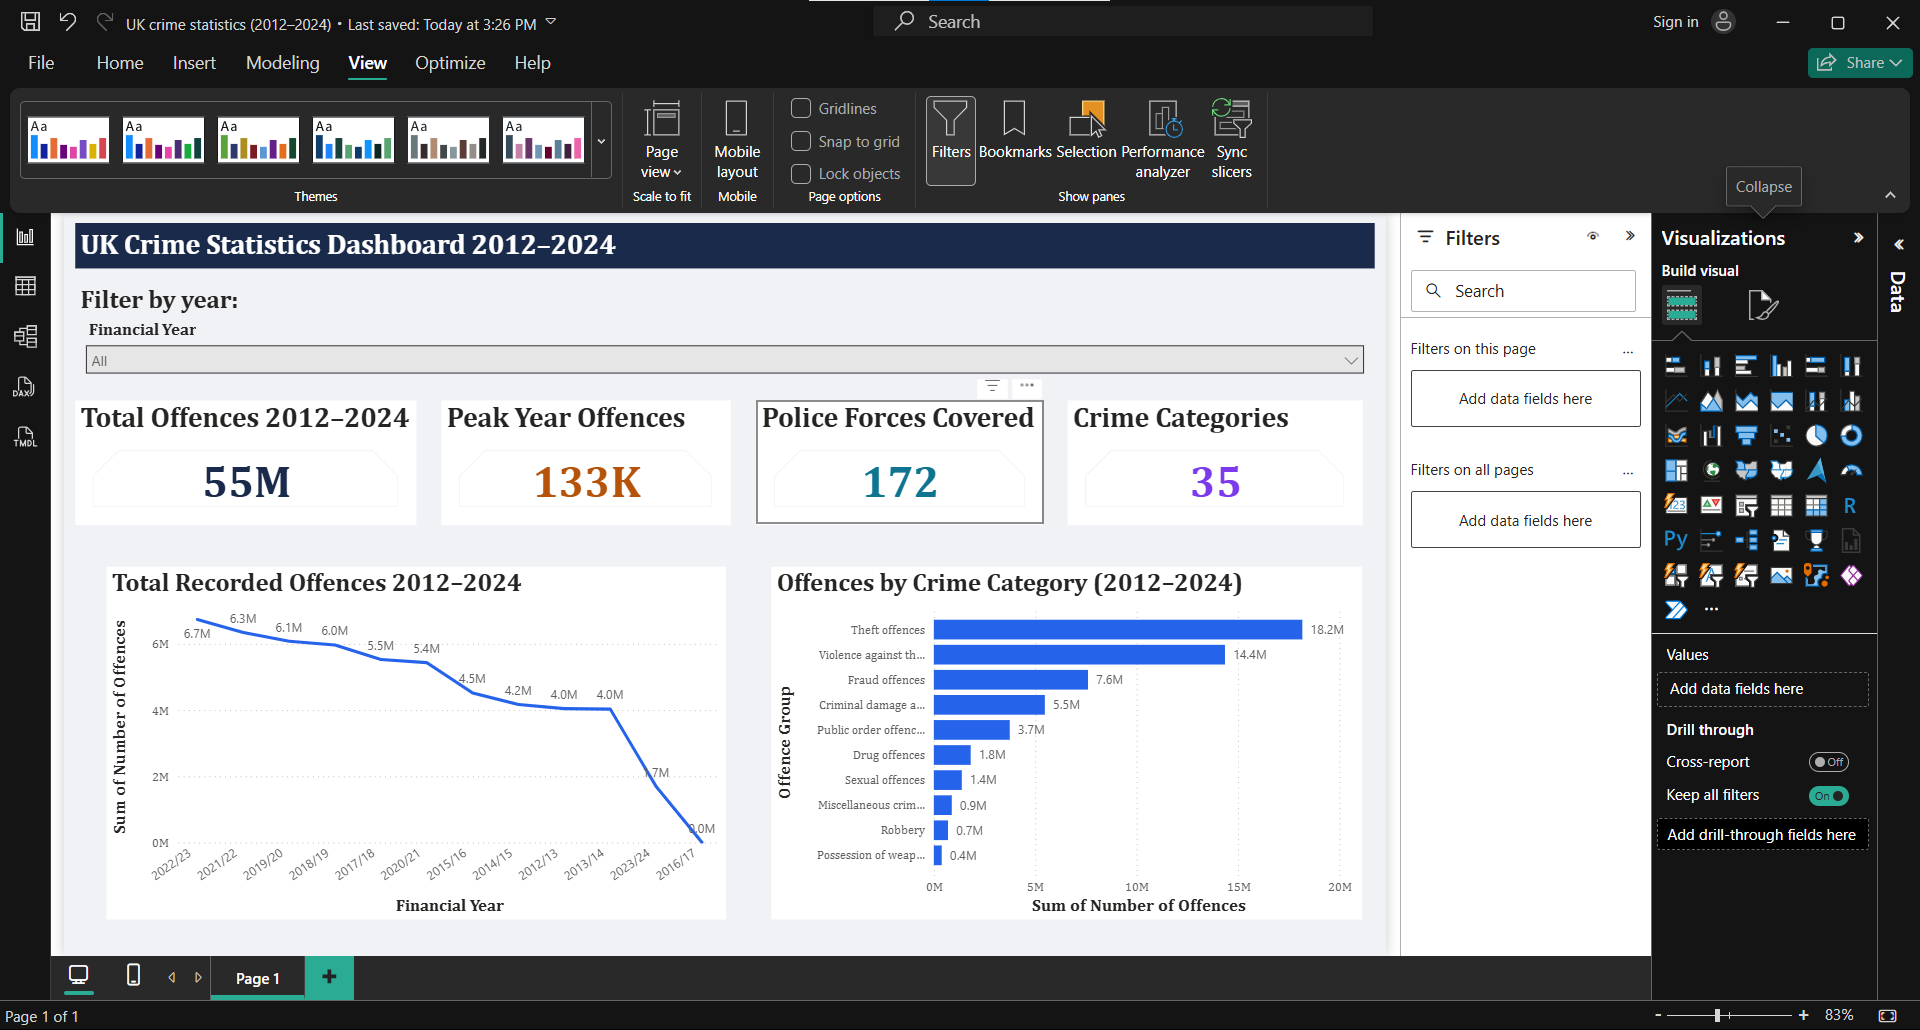

The page's visual inventory and layout, read from the dashboard file:
{"tool":"powerbi","page":{"name":"Page 1","canvas":[1280,720],"ordinal":0},"visuals":[{"type":"lineChart","title":"Total Recorded Offences 2012–2024","fields":{"Category":["Master Table.Financial Year"],"Y":["Sum(Master Table.Number of Offences)"]},"box":[41.2,343.1,599.7,341.7],"z":0},{"type":"clusteredBarChart","title":"Offences by Crime Category (2012–2024)","fields":{"Category":["Master Table.Offence Group"],"Y":["Sum(Master Table.Number of Offences)"]},"box":[684.7,343.1,572.2,341.7],"z":1000},{"type":"cardVisual","title":"Total Offences 2012–2024","fields":{"Data":["Sum(Master Table.Number of Offences)"]},"box":[11,181.1,330.7,120.8],"z":2000},{"type":"cardVisual","title":"Peak Year Offences","fields":{"Data":["Max(Master Table.Number of Offences)"]},"box":[365.9,181.1,279.9,120.8],"z":3000},{"type":"cardVisual","title":"Police Forces Covered","fields":{"Data":["Count(Master Table.Force Name)"]},"box":[670.1,181.1,277.2,120.8],"z":4000},{"type":"cardVisual","title":"Crime Categories","fields":{"Data":["Count(Master Table.Offence Group)"]},"box":[971.5,181.1,285.4,120.8],"z":5000},{"type":"slicer","title":"Filter by year:","fields":{"Values":["Master Table.Financial Year"]},"box":[11,68.6,1258.3,91.9],"z":6000},{"type":"textbox","box":[11,9.6,1258.3,43.9],"z":7000}]}

Visuals, with their boxes on the page's 1280x720 design canvas (x1, y1, x2, y2). These are canvas units, not pixel positions in the 1920x1030 screenshot, which may show the page scaled, cropped or inside an application window:
"Total Recorded Offences 2012–2024" lineChart: select_region(41, 343, 641, 685)
"Offences by Crime Category (2012–2024)" clusteredBarChart: select_region(685, 343, 1257, 685)
"Total Offences 2012–2024" cardVisual: select_region(11, 181, 342, 302)
"Peak Year Offences" cardVisual: select_region(366, 181, 646, 302)
"Police Forces Covered" cardVisual: select_region(670, 181, 947, 302)
"Crime Categories" cardVisual: select_region(972, 181, 1257, 302)
"Filter by year:" slicer: select_region(11, 69, 1269, 160)
textbox: select_region(11, 10, 1269, 54)
